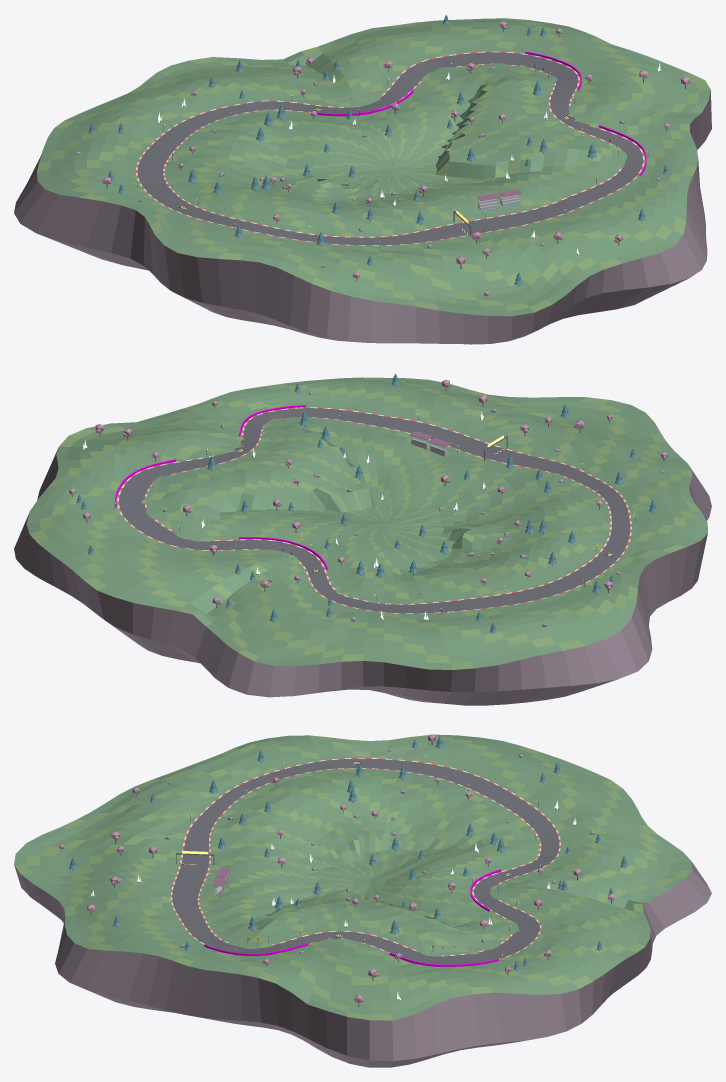
File: track.glb
3 views of the same model, one above another, from view 1: azimuth 30°, elevation 25°; view 2: azimuth 150°, elevation 25°; view 3: azimuth 270°, elevation 25° (orthographic). The views are drawn at different scales.
Parts seen in each view (by area): view 1: ISLAND, TRACK_SURFACE; view 2: ISLAND, TRACK_SURFACE; view 3: ISLAND, TRACK_SURFACE.
Boxes of the visible parts, x1,y1,x2,y2 form: ISLAND: (14,18,711,344); TRACK_SURFACE: (136,51,644,245); ISLAND: (14,377,711,705); TRACK_SURFACE: (117,407,631,613); ISLAND: (14,734,711,1067); TRACK_SURFACE: (170,758,560,964).
Size of the model in its own units: 454 by 109 by 446.
